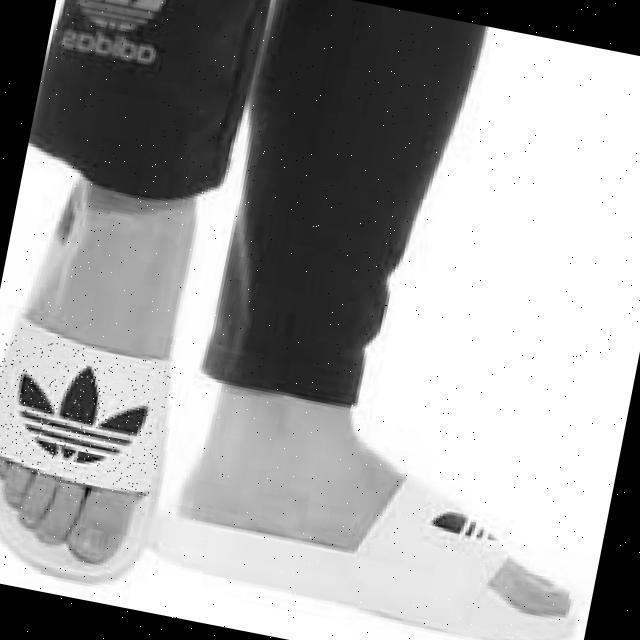Adidas: (0, 333, 178, 498), (52, 0, 175, 55)
